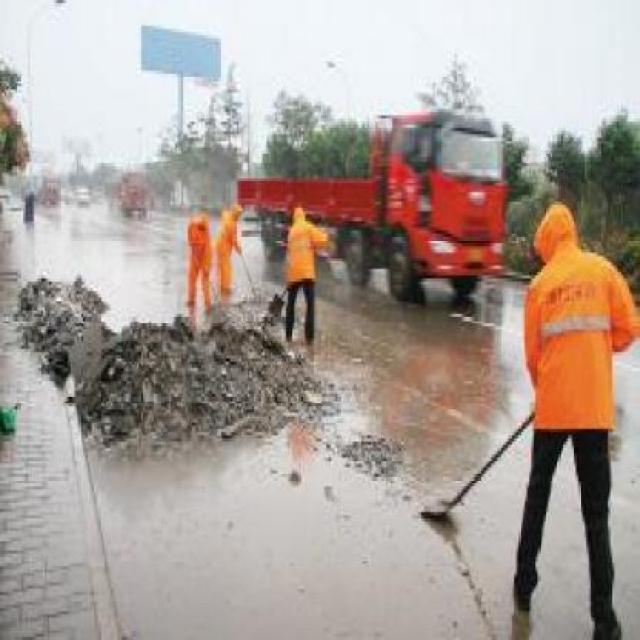garbage: (106, 314, 292, 429), (22, 269, 101, 429)
